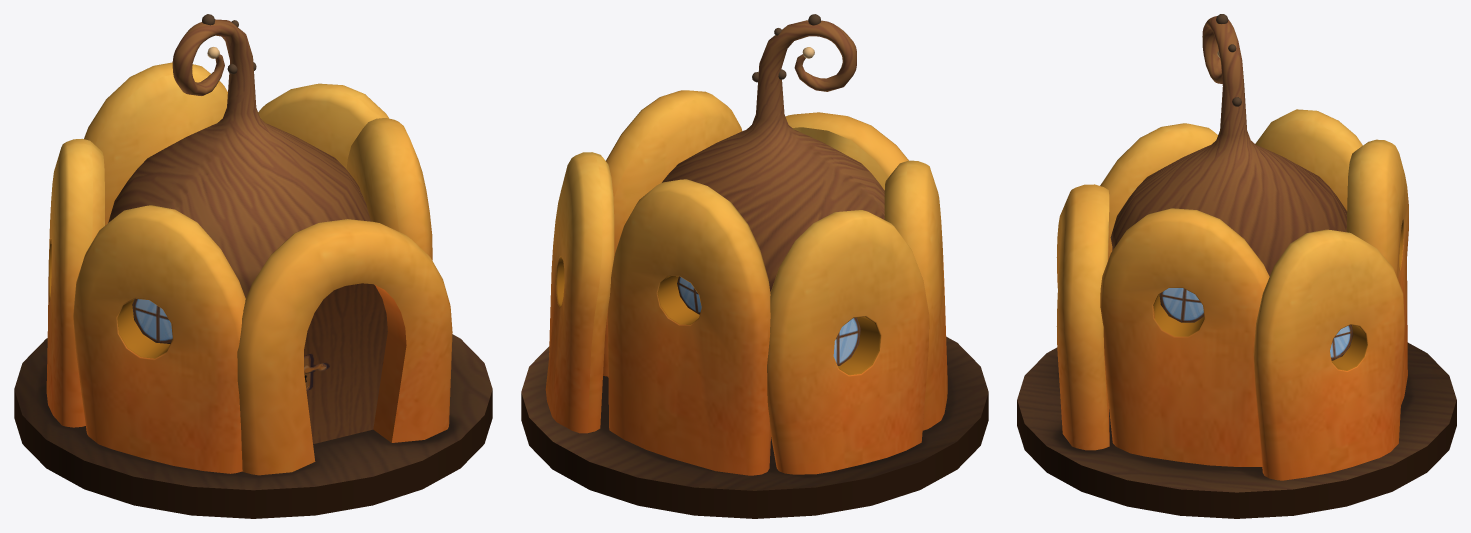
Rendered from uploads_files_4118883_Orange_Hause.obj.
3 views of the same model, side by side, from view 1: azimuth 30°, elevation 25°; view 2: azimuth 150°, elevation 25°; view 3: azimuth 270°, elevation 25° (orthographic). The views are drawn at different scales.
Visible parts, largest first — view 1: Cylinder.006_Cylinder.008, Cylinder.007_Cylinder.009, Cylinder.001_Cylinder.003, Cylinder_Cylinder.001, Cylinder.005_Cylinder.007, Cylinder.004_Cylinder.006, Cylinder.002_Cylinder.004, Cylinder.003_Cylinder.005; view 2: Cylinder.004_Cylinder.006, Cylinder.005_Cylinder.007, Cylinder.001_Cylinder.003, Cylinder_Cylinder.001, Cylinder.003_Cylinder.005, Cylinder.002_Cylinder.004, Cylinder.007_Cylinder.009, Cylinder.006_Cylinder.008; view 3: Cylinder.002_Cylinder.004, Cylinder.003_Cylinder.005, Cylinder.001_Cylinder.003, Cylinder_Cylinder.001, Cylinder.006_Cylinder.008, Cylinder.004_Cylinder.006, Cylinder.005_Cylinder.007, Cylinder.007_Cylinder.009.
Part boxes in pixels (x1=…): Cylinder.006_Cylinder.008: x1=237, y1=219, x2=452, y2=475; Cylinder.007_Cylinder.009: x1=73, y1=205, x2=245, y2=473; Cylinder.001_Cylinder.003: x1=14, y1=334, x2=492, y2=518; Cylinder_Cylinder.001: x1=108, y1=14, x2=370, y2=298; Cylinder.005_Cylinder.007: x1=46, y1=138, x2=104, y2=427; Cylinder.004_Cylinder.006: x1=84, y1=62, x2=227, y2=225; Cylinder.002_Cylinder.004: x1=346, y1=118, x2=432, y2=260; Cylinder.003_Cylinder.005: x1=258, y1=83, x2=388, y2=169; Cylinder.004_Cylinder.006: x1=607, y1=179, x2=770, y2=475; Cylinder.005_Cylinder.007: x1=767, y1=210, x2=929, y2=474; Cylinder.001_Cylinder.003: x1=521, y1=337, x2=988, y2=518; Cylinder_Cylinder.001: x1=662, y1=14, x2=884, y2=292; Cylinder.003_Cylinder.005: x1=545, y1=152, x2=614, y2=433; Cylinder.002_Cylinder.004: x1=603, y1=90, x2=742, y2=376; Cylinder.007_Cylinder.009: x1=884, y1=160, x2=947, y2=430; Cylinder.006_Cylinder.008: x1=785, y1=112, x2=908, y2=190; Cylinder.002_Cylinder.004: x1=1100, y1=208, x2=1269, y2=466; Cylinder.003_Cylinder.005: x1=1253, y1=229, x2=1404, y2=480; Cylinder.001_Cylinder.003: x1=1017, y1=342, x2=1456, y2=518; Cylinder_Cylinder.001: x1=1110, y1=14, x2=1347, y2=314; Cylinder.006_Cylinder.008: x1=1056, y1=184, x2=1109, y2=450; Cylinder.004_Cylinder.006: x1=1346, y1=139, x2=1408, y2=404; Cylinder.005_Cylinder.007: x1=1255, y1=109, x2=1362, y2=210; Cylinder.007_Cylinder.009: x1=1100, y1=123, x2=1217, y2=260.
Size of the model in its own units: 3.97 by 3.87 by 3.97.
